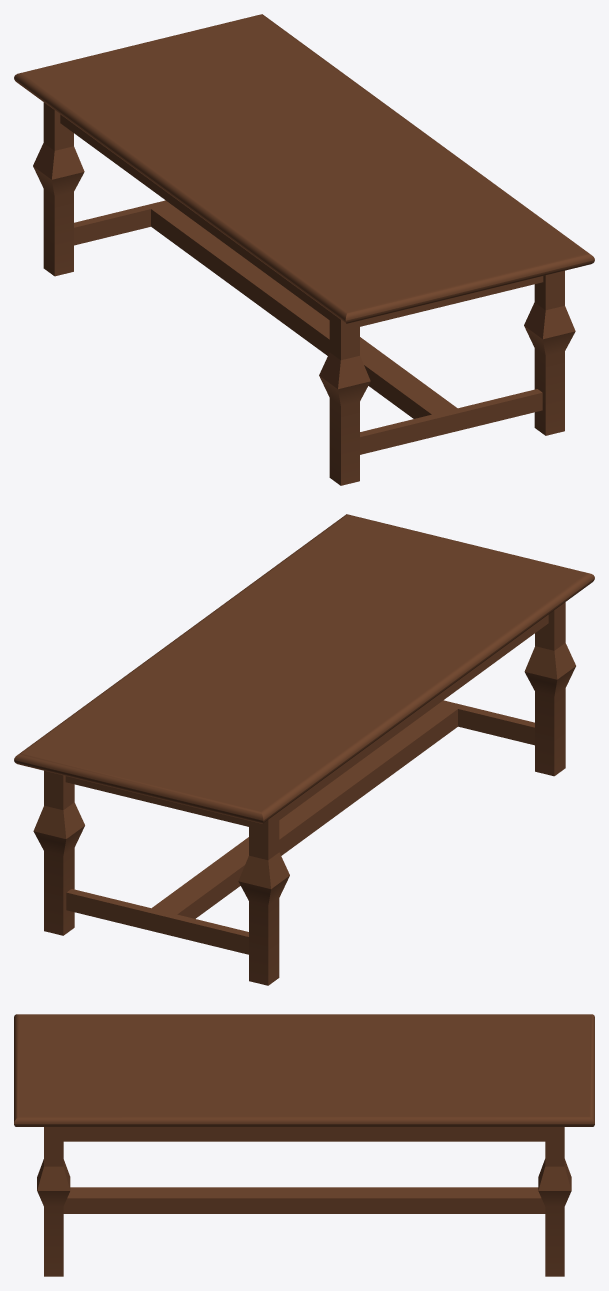
The model's file is GrandeTable_69.fbx.
3 renders of one model, top to bottom at view 1: azimuth 30°, elevation 25°; view 2: azimuth 150°, elevation 25°; view 3: azimuth 270°, elevation 25°, orthographic. The views are drawn at different scales.
Visible parts, largest first — view 1: pCube105, pCube107, polySurface28, polySurface29, polySurface31; view 2: pCube105, pCube107, polySurface29, polySurface28, polySurface30; view 3: pCube105, pCube107, polySurface31, polySurface30.
Part boxes in pixels (x1,y1,x2,y2): pCube105: [14, 14, 594, 326]; pCube107: [74, 200, 542, 454]; polySurface28: [319, 312, 370, 485]; polySurface29: [33, 102, 84, 276]; polySurface31: [524, 270, 575, 435]; pCube105: [14, 514, 594, 826]; pCube107: [66, 700, 534, 954]; polySurface29: [238, 812, 289, 985]; polySurface28: [524, 602, 575, 776]; polySurface30: [33, 770, 84, 935]; pCube105: [14, 1014, 594, 1141]; pCube107: [63, 1187, 545, 1213]; polySurface31: [37, 1127, 70, 1276]; polySurface30: [538, 1127, 571, 1276].
Bounding box in the file's own units: 56.13 × 40.09 × 129.
